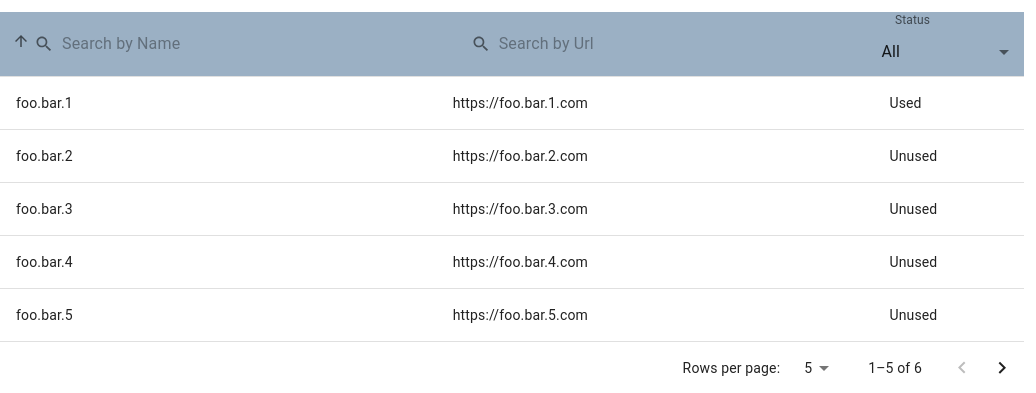
Table Filtering › should allow searching by name
This screenshot has width=1036, height=393.
Type "foo.bar.1" into the element named "Search by Name".
click(158, 44); type("foo.bar.1")  # box [34,28,282,60]
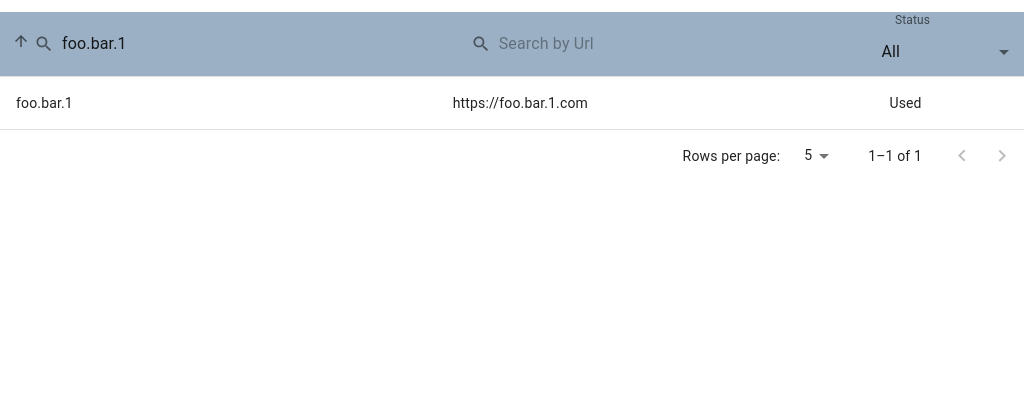
Expected: the row "foo.bar.1 https://foo.bar.1.com Used" is shown, [0,76,1024,130]
Expected: the number of rows is 2, [0,12,1024,76]; [0,76,1024,130]
